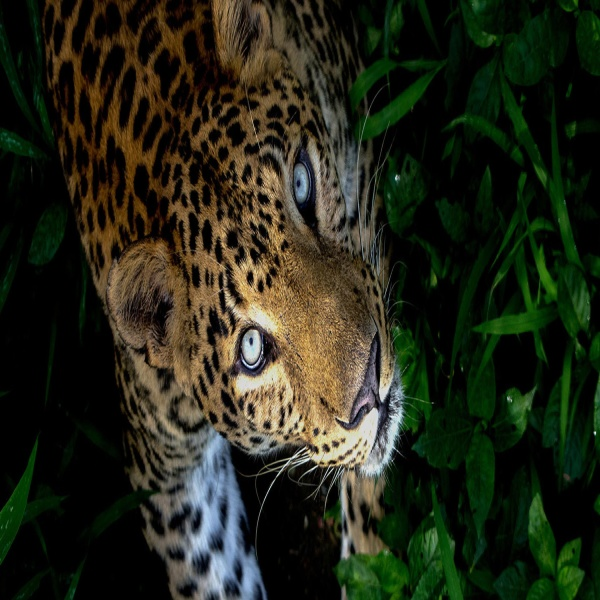Leopard: (34, 1, 412, 600)
